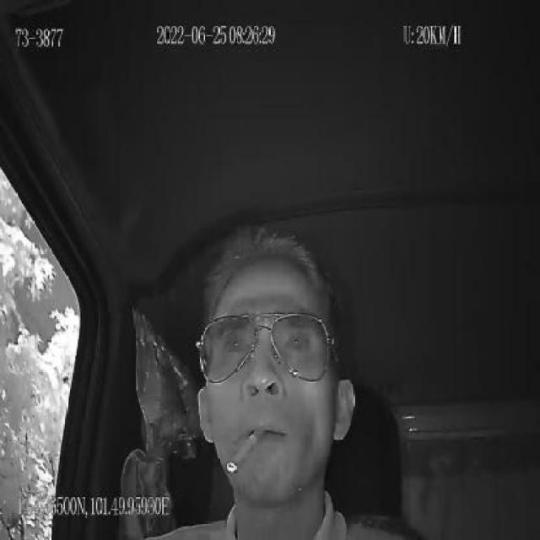smoking: (225, 423, 267, 476)
